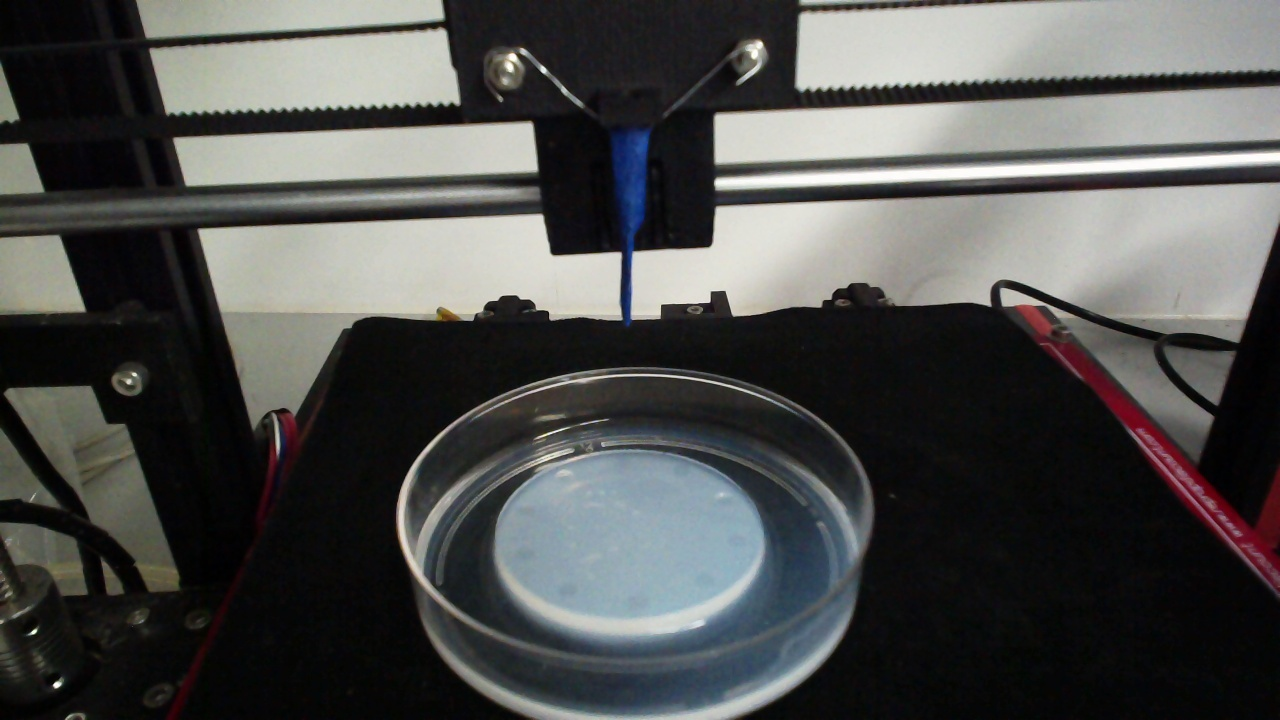groove: (691, 572, 717, 591), (626, 592, 650, 611), (556, 580, 578, 599), (726, 533, 750, 549), (512, 546, 537, 561), (552, 468, 574, 483), (714, 491, 734, 507), (671, 464, 690, 479), (515, 504, 535, 517)
needle: (614, 131, 647, 326)
